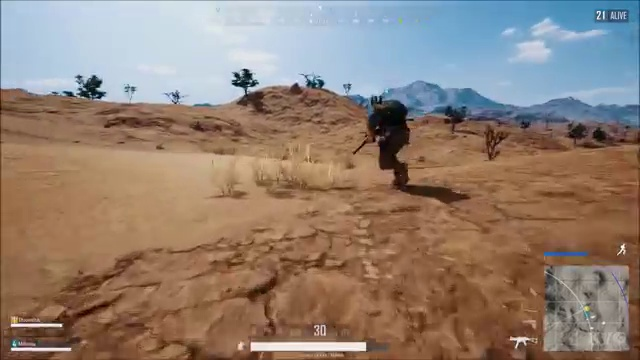Player: (353, 87, 443, 197)
